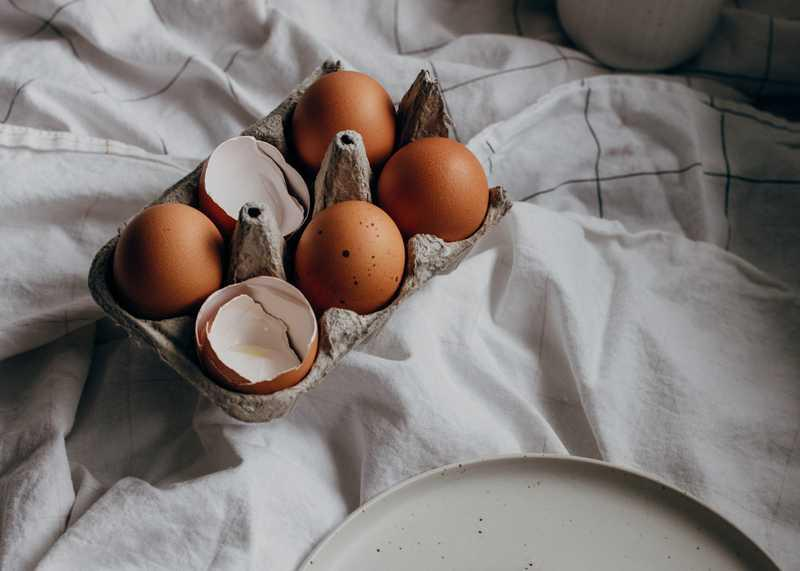egg: (295, 196, 409, 317), (112, 201, 227, 316), (375, 136, 494, 243), (294, 69, 396, 171)
